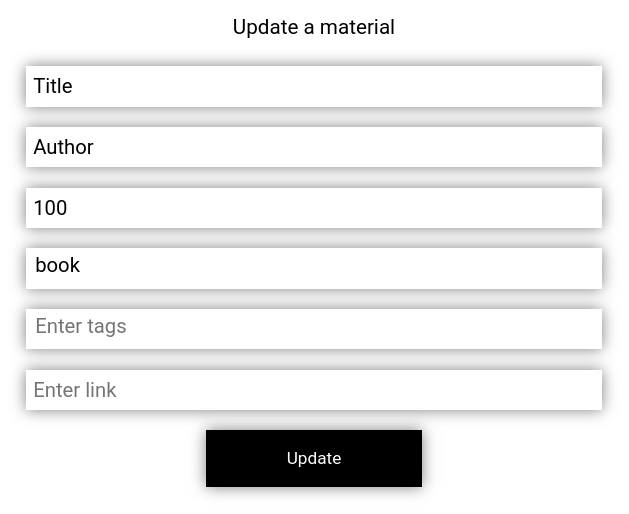
UpdateMaterialPage tags › sanitizes the typed tag and says so
Expected: the field showing "Title" is shown, top-left (26, 66), bottom-right (602, 106)
In the field with placeholder "Enter tags": (318, 326) top-left (33, 309), bottom-right (602, 343), type "Sci-Fi"
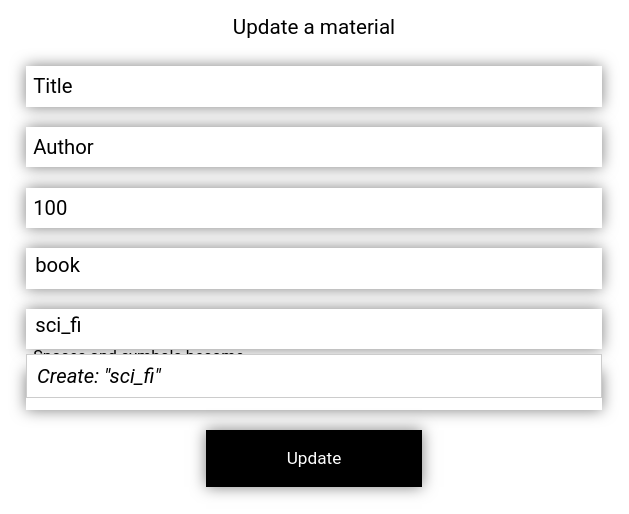
Expected: the 2nd field with placeholder "Enter tags" holds "sci_fi"
Expected: the text "Spaces and symbols become _" is shown, top-left (33, 347), bottom-right (255, 366)
Expected: the text "Create: \"sci_fi\"" is shown, top-left (37, 364), bottom-right (161, 388)
Replace the text in the 2nd field with placeholder "Enter tags" with "c++": (318, 325) top-left (33, 309), bottom-right (602, 341)
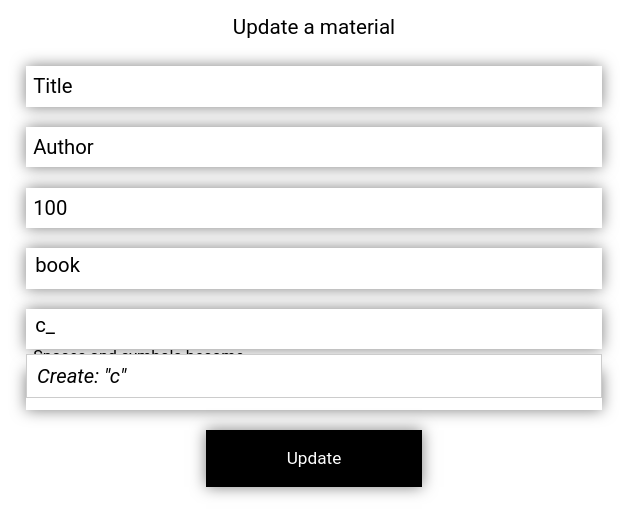
Expected: the 2nd field with placeholder "Enter tags" holds "c_", top-left (33, 309), bottom-right (602, 341)
Expected: the text "Create: \"c\"" is shown, top-left (37, 364), bottom-right (126, 388)
